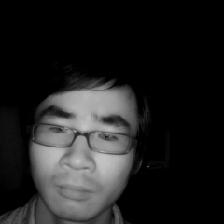normal: (15, 58, 157, 224)
